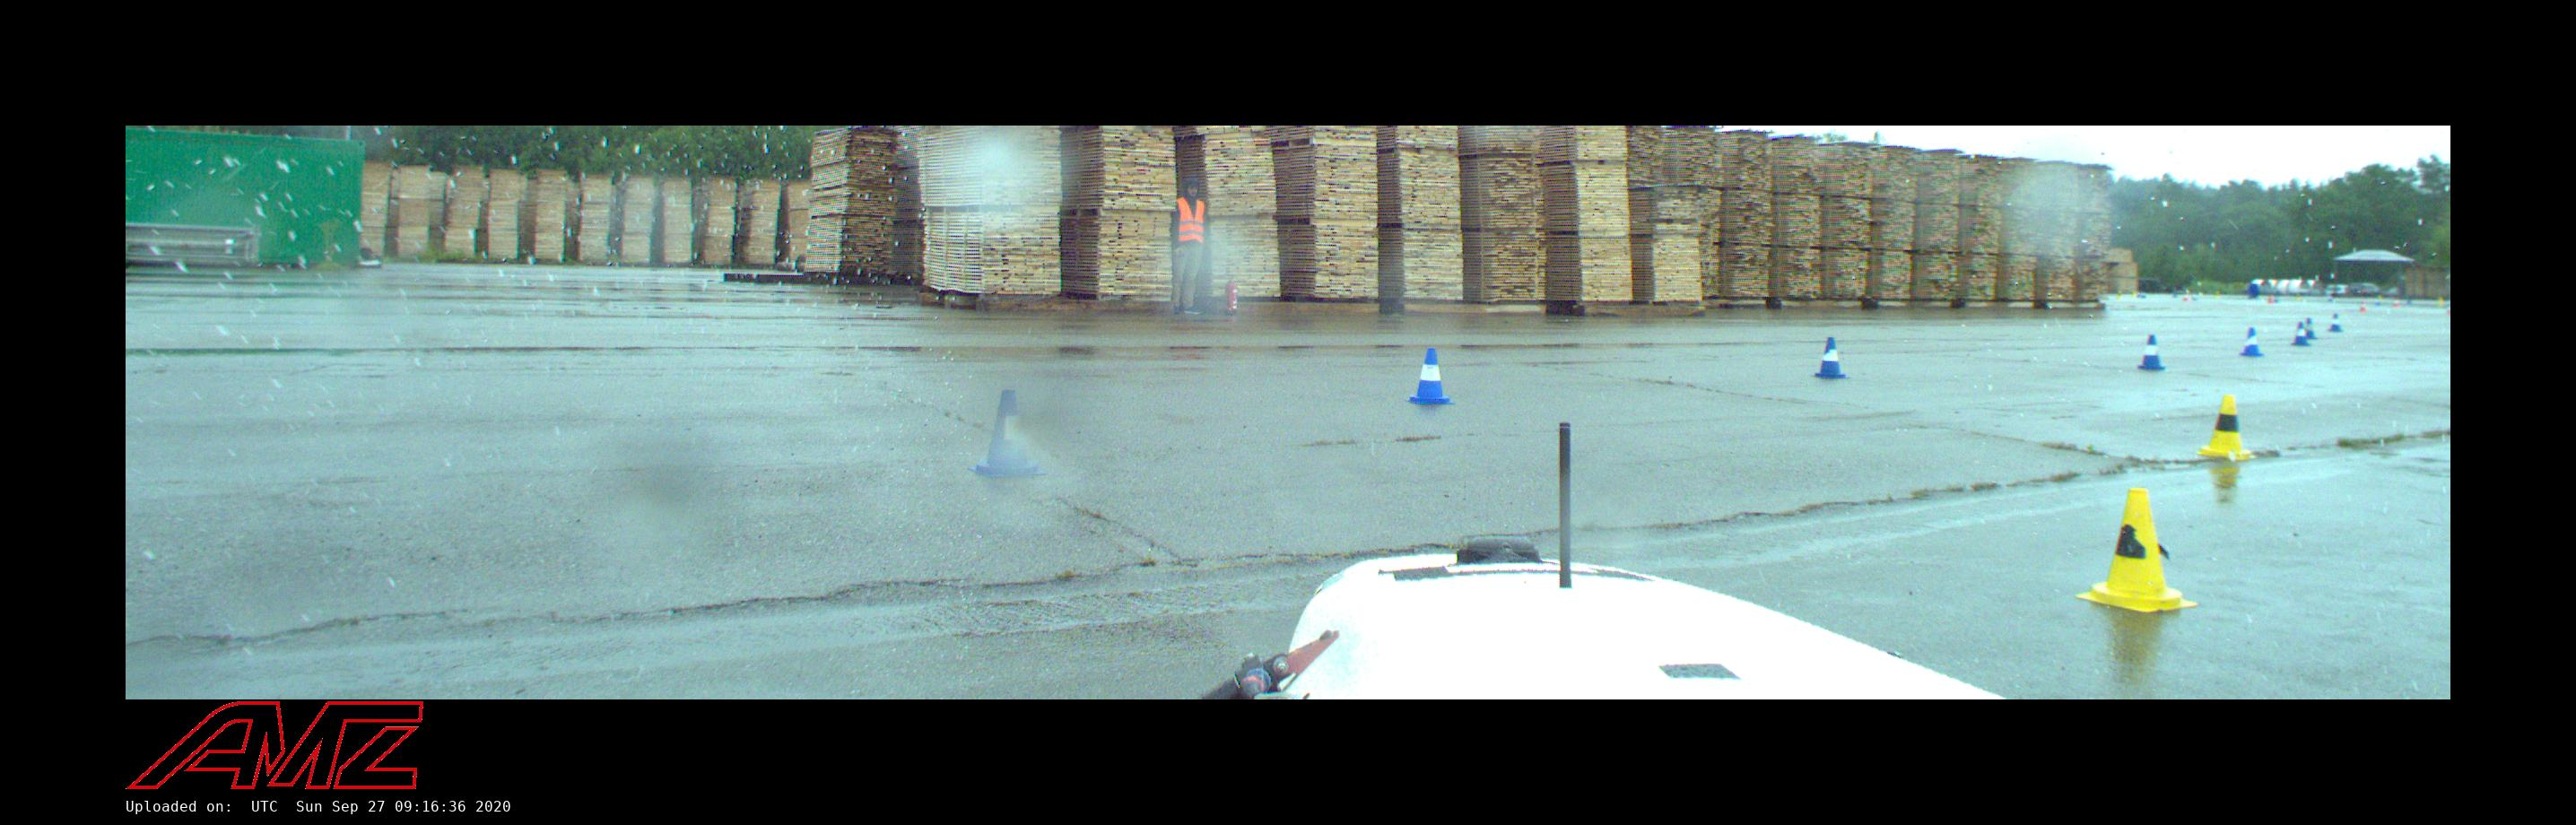blue_cone: (969, 389, 1046, 477), (1406, 348, 1454, 404), (1815, 339, 1850, 378), (2136, 335, 2167, 370), (2239, 329, 2262, 357), (2292, 322, 2312, 345), (2328, 314, 2343, 332), (2307, 319, 2318, 339)
yellow_cone: (2075, 488, 2198, 611), (2198, 396, 2257, 460)
